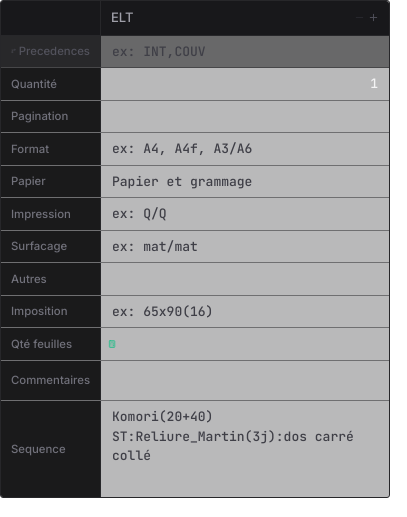
Test case: JcfElementsTable › element name editing › enters edit mode on click
This screenshot has width=407, height=517.
Click the button with test id "jcf-element-name-0": point(229, 18) [108,6,350,30]
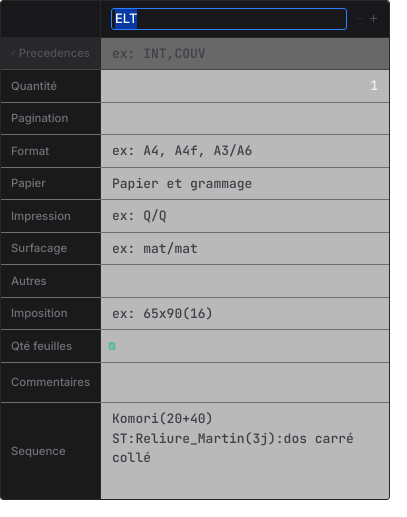
Result: the field with test id "jcf-element-name-input-0" is shown at [111,8,347,30]
